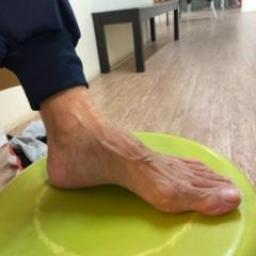Medial View -Left Foot-: (18, 75, 251, 229)
